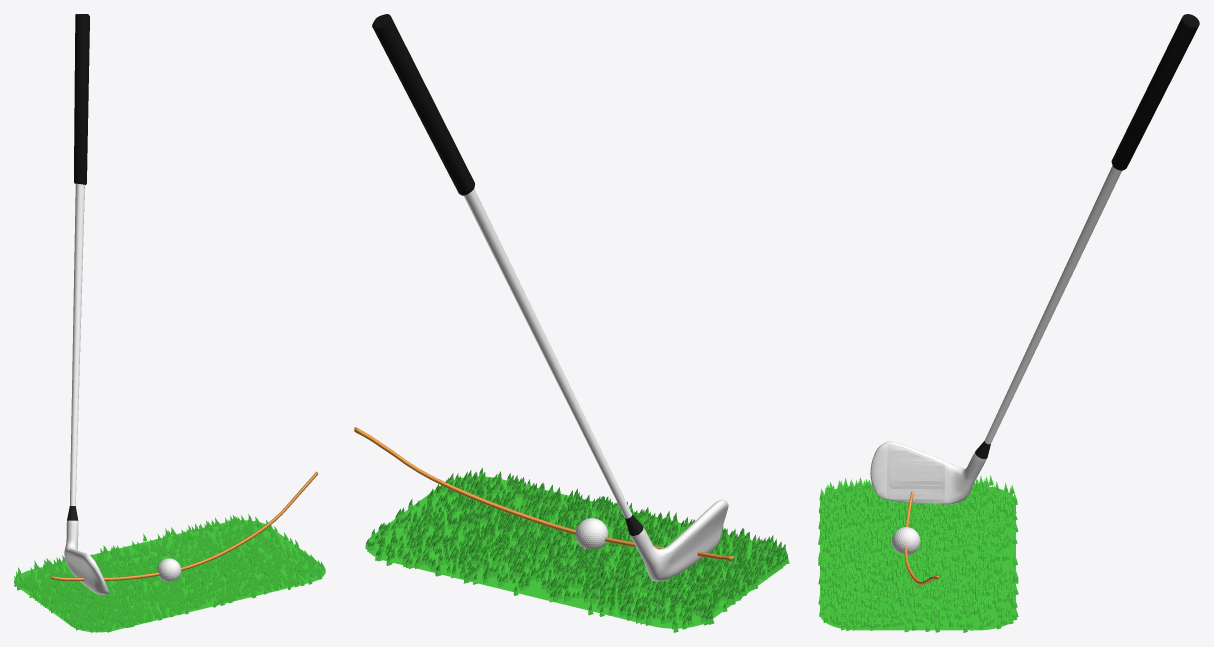
File: Iron.gltf
3 renders of one model, left to right at view 1: azimuth 30°, elevation 25°; view 2: azimuth 150°, elevation 25°; view 3: azimuth 270°, elevation 25°, orthographic. The views are drawn at different scales.
Parts seen in each view (by area): view 1: Grass, Club, BezierCurve, Ball; view 2: Grass, Club, BezierCurve, Ball; view 3: Grass, Club, Ball.
Boxes of the visible parts, bbox=[...] form: Grass: bbox=[14, 514, 325, 632]; Club: bbox=[64, 14, 108, 594]; BezierCurve: bbox=[50, 471, 317, 580]; Ball: bbox=[157, 558, 181, 581]; Grass: bbox=[365, 467, 789, 632]; Club: bbox=[372, 14, 728, 581]; BezierCurve: bbox=[354, 427, 733, 560]; Ball: bbox=[575, 518, 608, 550]; Grass: bbox=[818, 475, 1018, 632]; Club: bbox=[870, 14, 1199, 504]; Ball: bbox=[892, 527, 920, 555].
Bounding box in the file's own units: 12.02 × 19.31 × 11.9.
